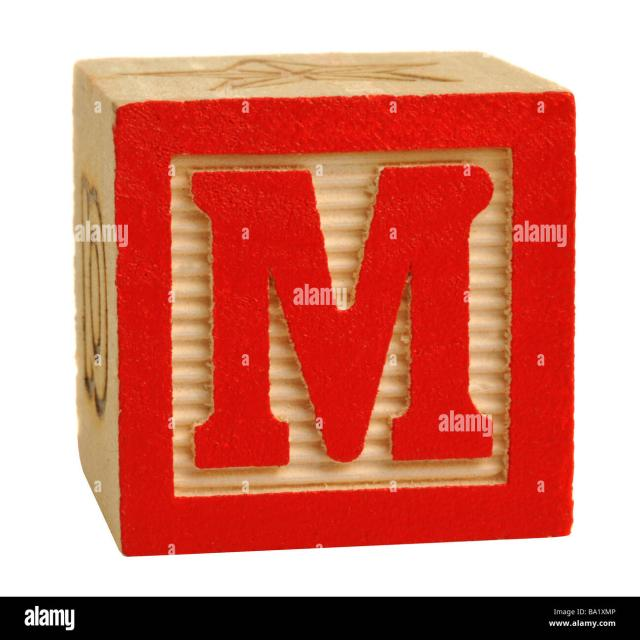M: (176, 147, 506, 484)
